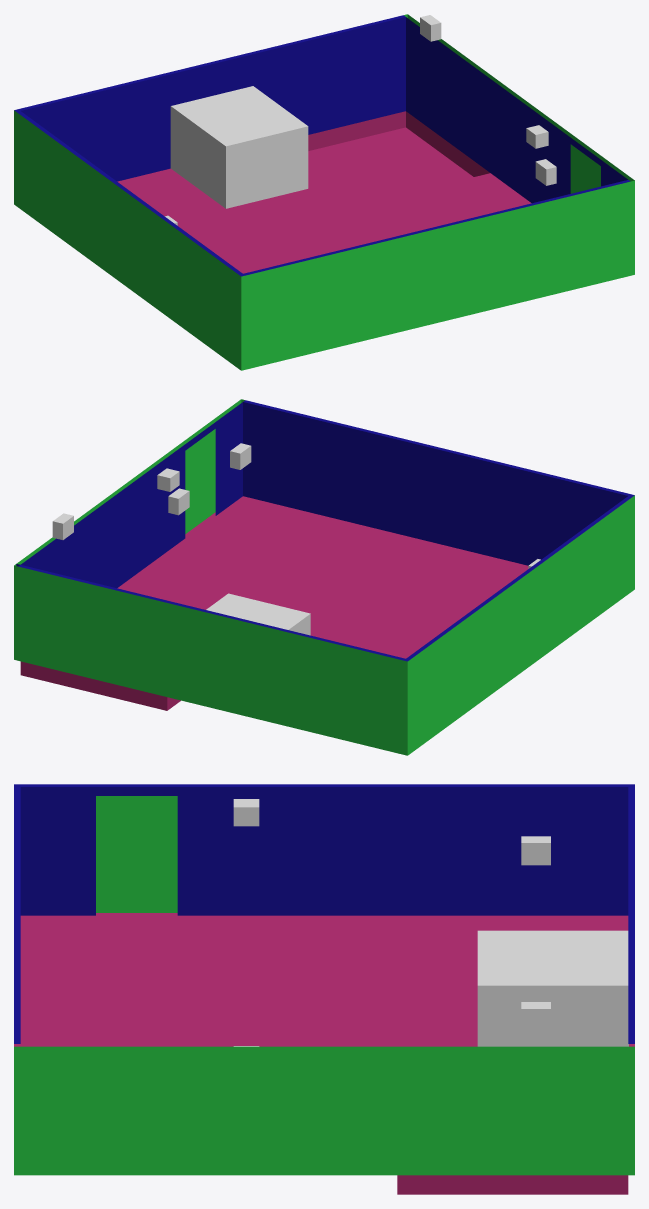
The model's file is Nivel2.FBX.
3 views of the same model, one above another, from view 1: azimuth 30°, elevation 25°; view 2: azimuth 150°, elevation 25°; view 3: azimuth 270°, elevation 25° (orthographic). The views are drawn at different scales.
Parts seen in each view (by area): view 1: Pared, Model, Cajas; view 2: Pared, Model, Cajas; view 3: Pared, Model, Cajas, Palanca, Palanca001, Aplique.
Part boxes in pixels (x1,y1,x2,y2): Pared: (14,14,634,370); Model: (117,111,531,273); Cajas: (170,86,308,208); Pared: (14,399,634,755); Model: (20,496,528,710); Cajas: (206,593,310,635); Pared: (14,784,634,1175); Model: (14,913,634,1194); Cajas: (477,930,628,1046); Palanca: (521,836,550,865); Palanca001: (521,1002,550,1031); Aplique: (233,799,259,826).
Bounding box in the file's own units: 370 × 121 × 370.
